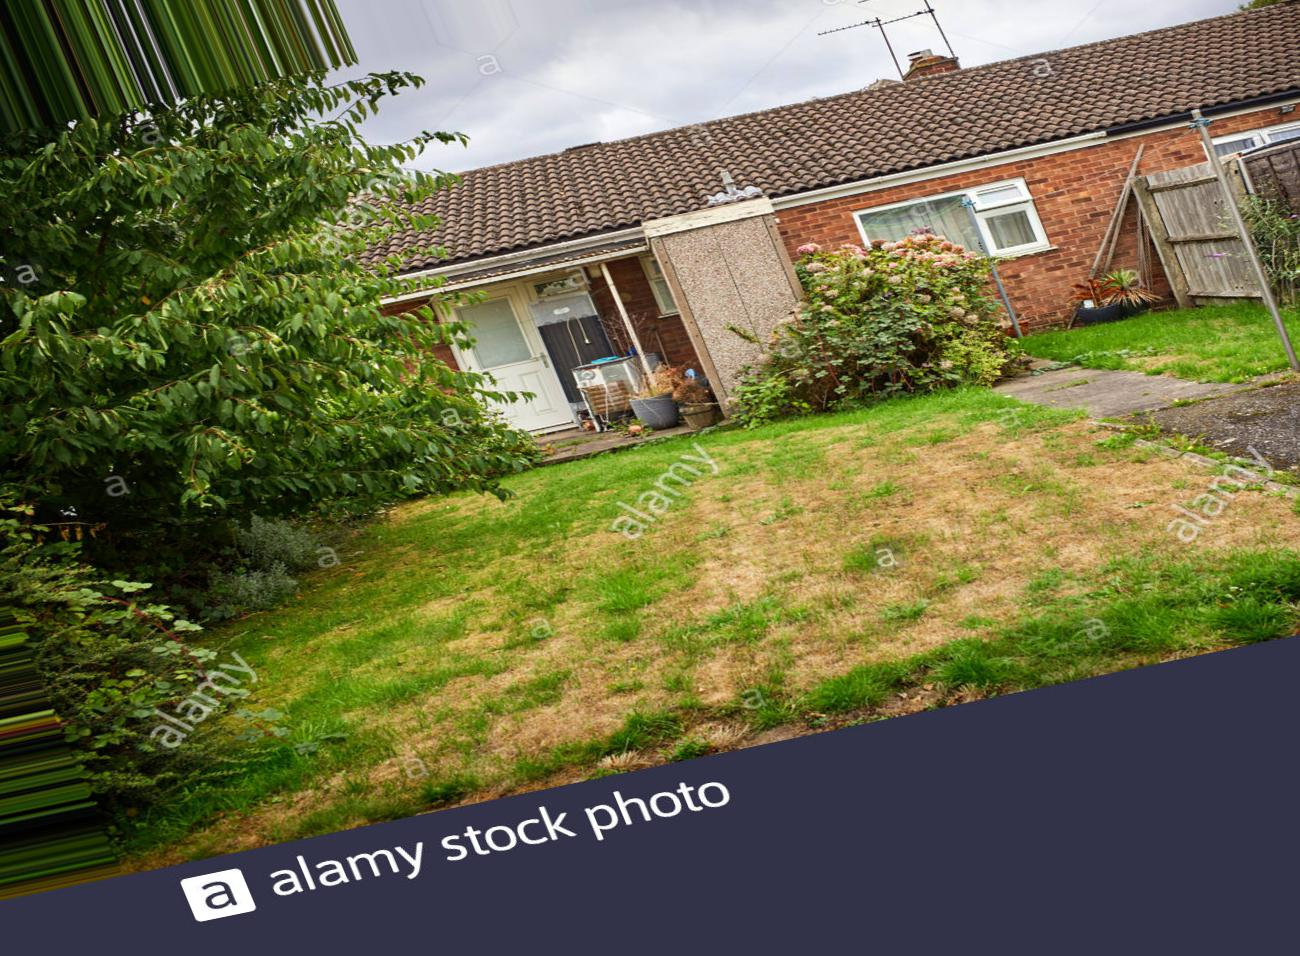patch: (882, 437, 1082, 598), (719, 490, 823, 602), (480, 694, 632, 743)
